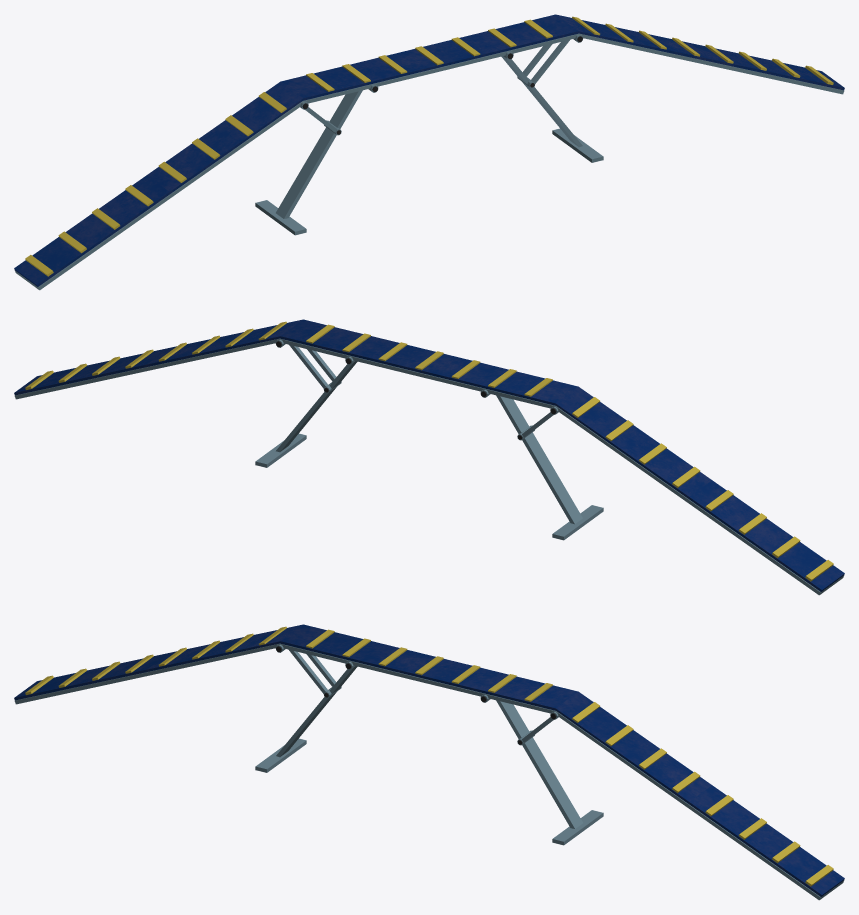
Rendered from platform01.fbx.
3 renders of one model, top to bottom at view 1: azimuth 30°, elevation 25°; view 2: azimuth 150°, elevation 25°; view 3: azimuth 330°, elevation 25°, orthographic.
Parts seen in each view (by area): view 1: platform01; view 2: platform01; view 3: platform01.
Part boxes in pixels (x1,y1,x2,y2): platform01: [14, 14, 844, 290]; platform01: [14, 319, 844, 595]; platform01: [14, 624, 844, 900].
Size of the model in its own units: 510 by 77.65 by 43.23.
